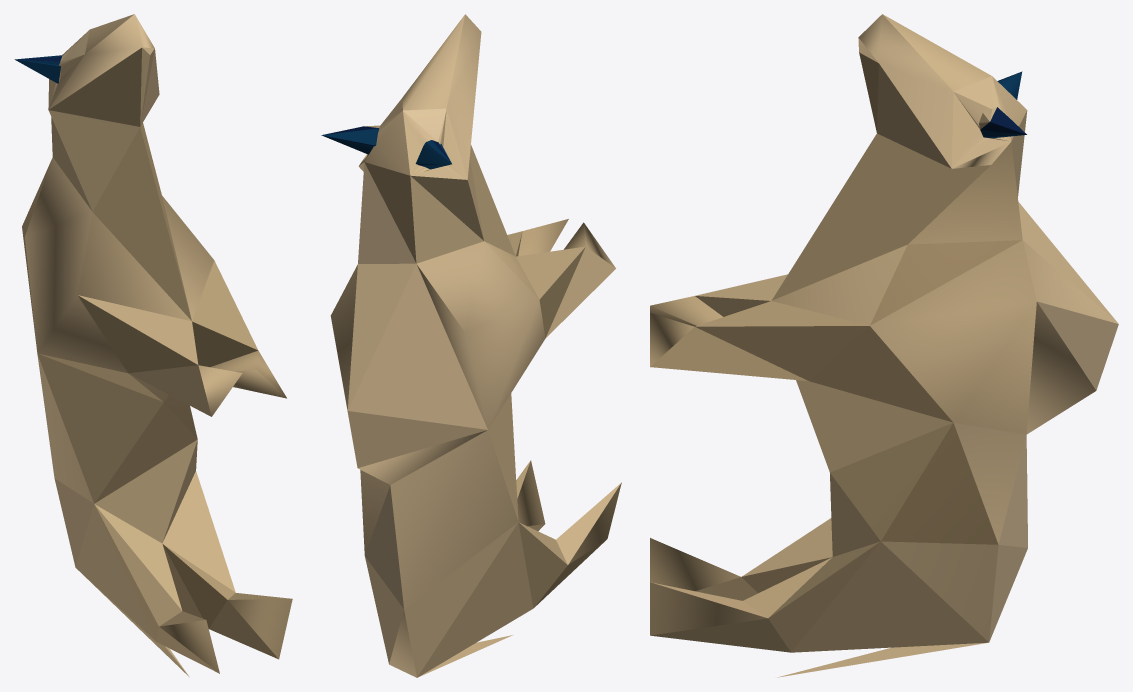
The model's file is desert_cow.fbx.
The picture shows the model from 3 angles, left to right: view 1: azimuth 30°, elevation 25°; view 2: azimuth 150°, elevation 25°; view 3: azimuth 270°, elevation 25°; orthographic projection. The views are drawn at different scales.
Parts seen in each view (by area): view 1: acc_1; view 2: acc_1; view 3: acc_1.
Part boxes in pixels (x1,y1,x2,y2): acc_1: [14, 14, 292, 677]; acc_1: [321, 14, 621, 677]; acc_1: [650, 14, 1118, 677].
Bounding box in the file's own units: 86.69 × 378 × 243.
